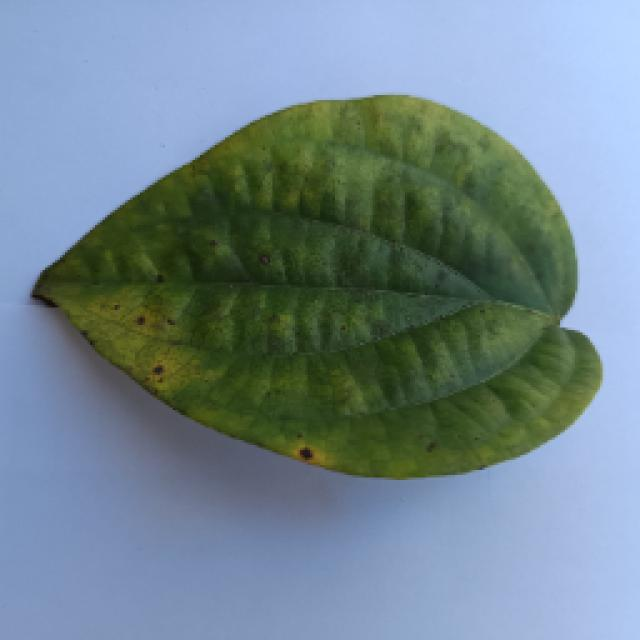slow-decline: (18, 90, 602, 495)
